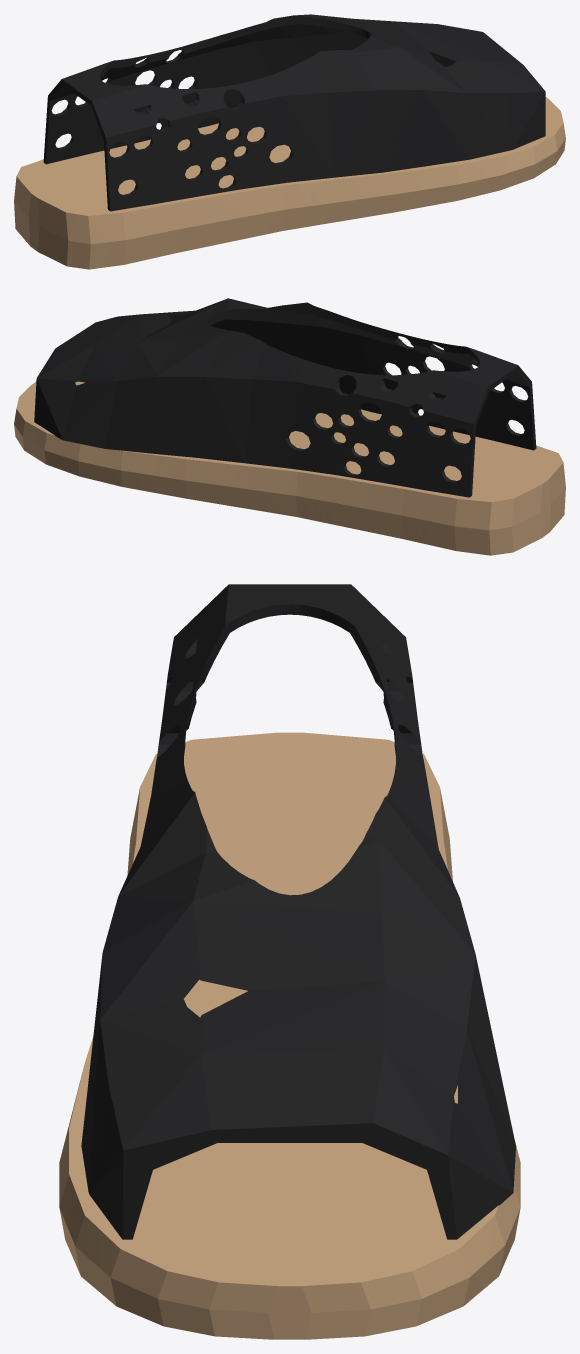
File: crystal-cage.glb
The picture shows the model from 3 angles, top to bottom: view 1: azimuth 30°, elevation 25°; view 2: azimuth 150°, elevation 25°; view 3: azimuth 270°, elevation 25°; orthographic projection. The views are drawn at different scales.
Parts seen in each view (by area): view 1: crystal-cage_upper, crystal-cage_sole; view 2: crystal-cage_upper, crystal-cage_sole; view 3: crystal-cage_upper, crystal-cage_sole.
Boxes of the visible parts, x1,y1,x2,y2 form: crystal-cage_upper: (43,14,545,211); crystal-cage_sole: (14,97,565,269); crystal-cage_upper: (34,298,536,497); crystal-cage_sole: (14,381,565,555); crystal-cage_upper: (81,584,515,1239); crystal-cage_sole: (59,732,520,1339).
Size of the model in its own units: 0.3 by 0.0859 by 0.117.
